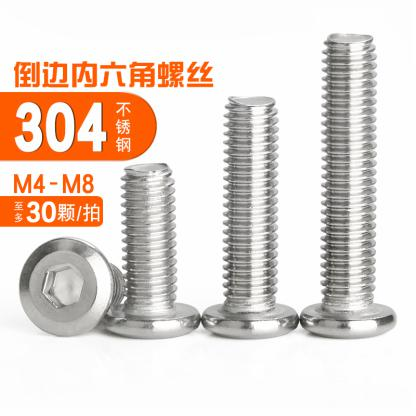FOD: (299, 28, 398, 343), (200, 93, 301, 342), (100, 159, 202, 345), (16, 235, 124, 340)
